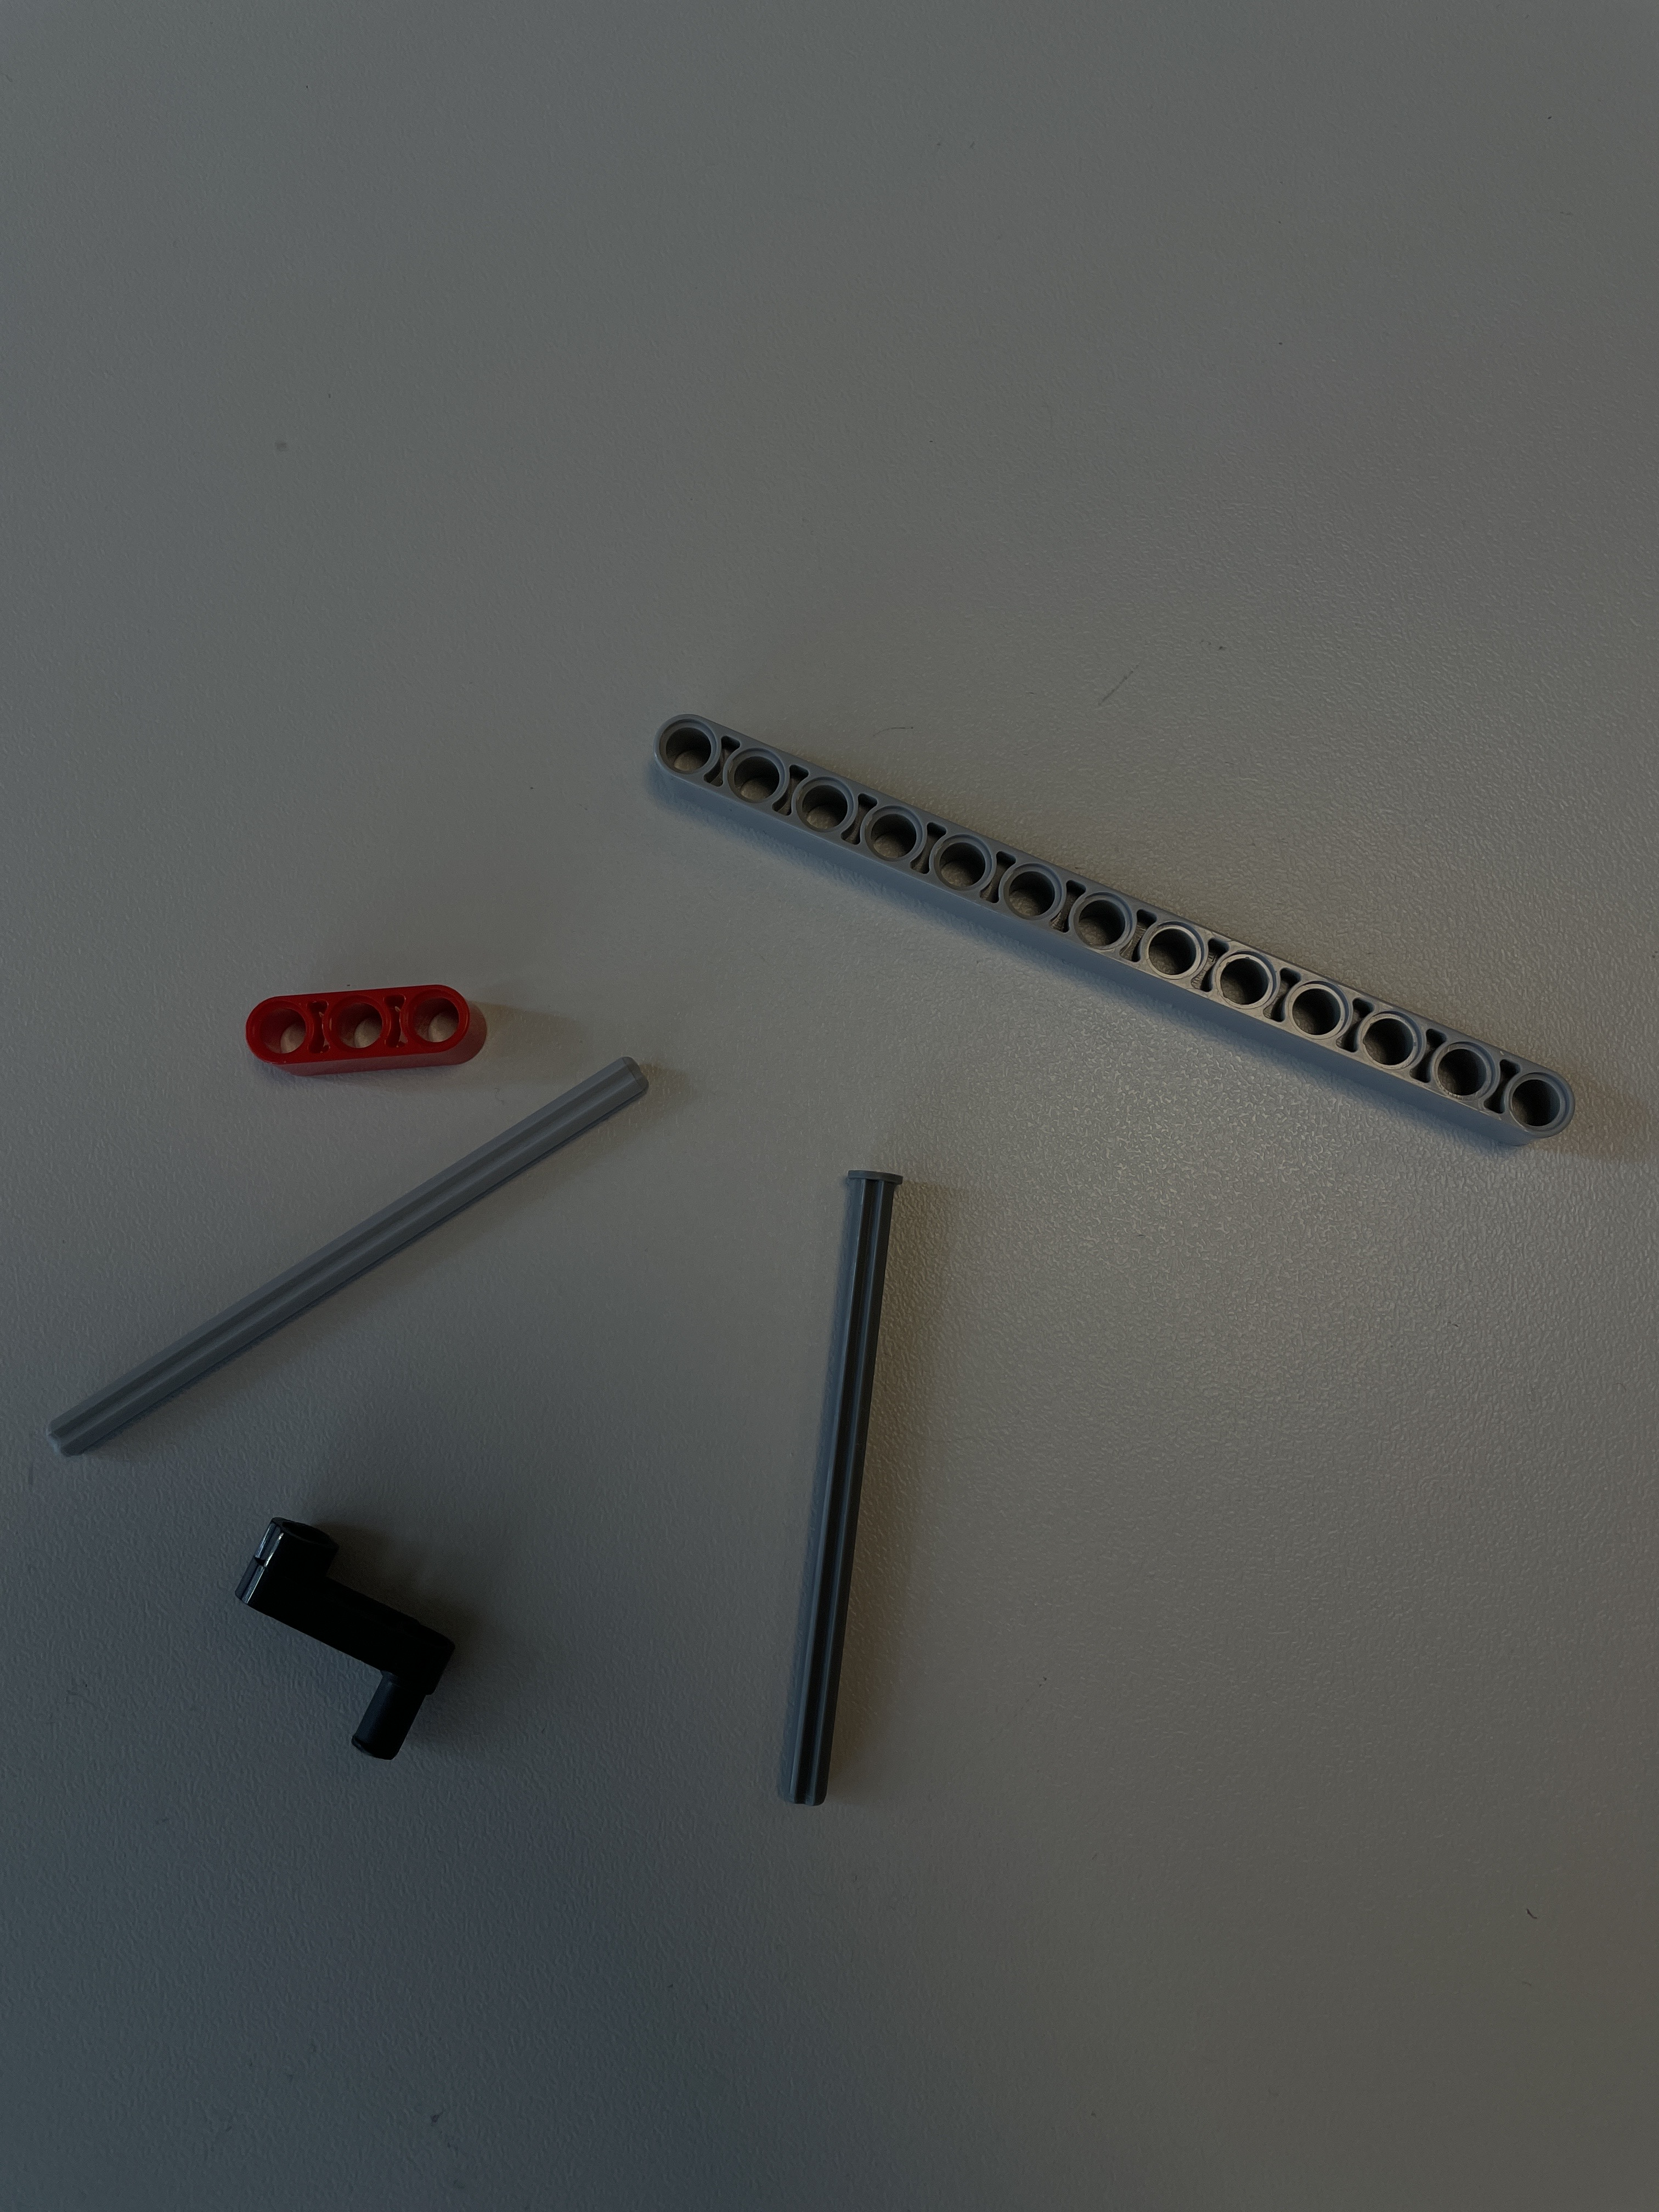13gat: (636, 698, 1588, 1167)
3gat: (232, 982, 498, 1082)
plusstaaf: (35, 1049, 660, 1465)
plusstaafdicht: (767, 1165, 910, 1818)
verbindstukzwart: (220, 1512, 476, 1770)
